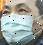with_mask: (1, 1, 43, 45)
